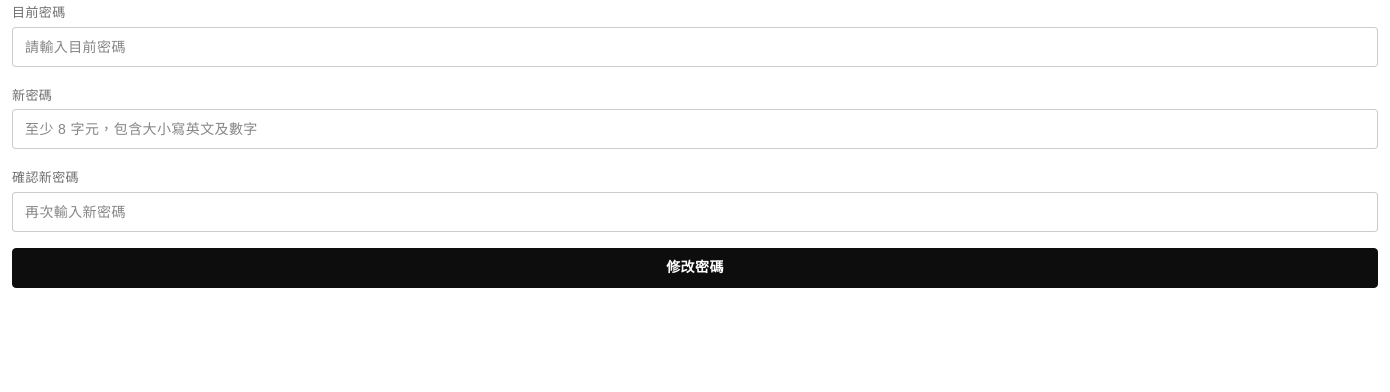
ChangePasswordForm 元件 › 空白送出時顯示 validation 訊息
Click the button "修改密碼".
click(695, 268)  # box [12,248,1378,288]
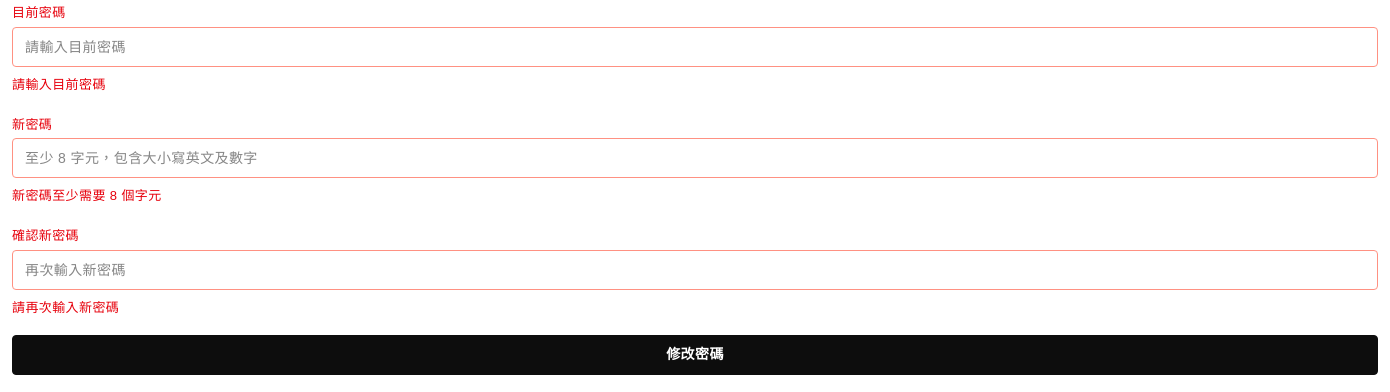
Now the text "請輸入目前密碼" is shown, box [12,74,106,94]
Now the text "新密碼至少需要 8 個字元" is shown, box [12,186,162,206]
Now the text "請再次輸入新密碼" is shown, box [12,298,119,317]
